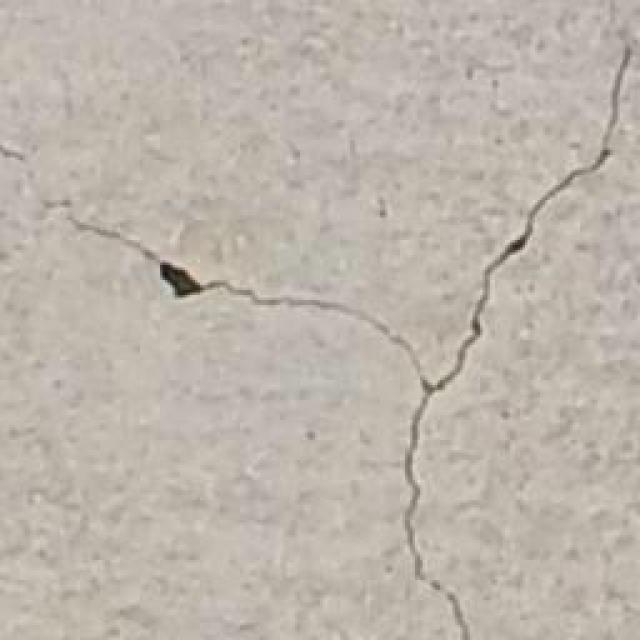concrete-crack: (122, 48, 632, 592), (5, 152, 160, 262), (448, 592, 475, 640)
